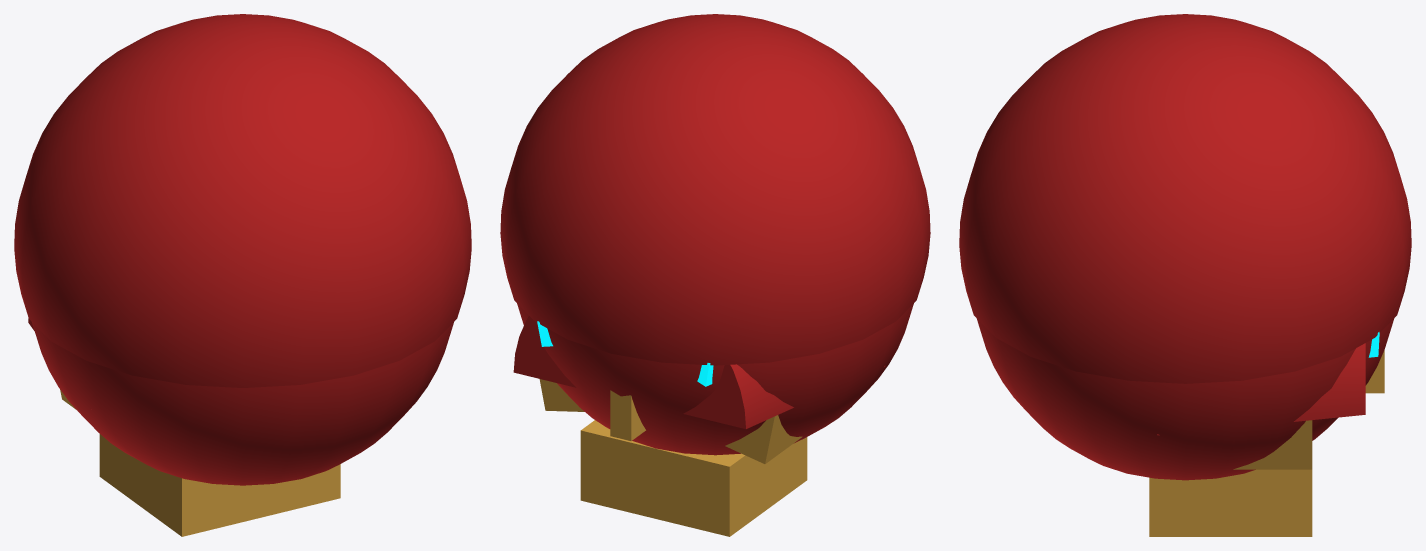
The model's file is helmet.glb.
The picture shows the model from 3 angles, left to right: view 1: azimuth 30°, elevation 25°; view 2: azimuth 150°, elevation 25°; view 3: azimuth 270°, elevation 25°; orthographic projection. The views are drawn at different scales.
Parts seen in each view (by area): view 1: Crown, Skull, Jaw; view 2: Crown, Skull, Jaw, Faceplate, CheekR, Ridge, CheekL; view 3: Crown, Skull, Jaw, Faceplate, CheekL.
Boxes of the visible parts, left/top/right/bottom form: Crown: left=14, top=14, right=471, bottom=387; Skull: left=32, top=322, right=453, bottom=485; Jaw: left=99, top=434, right=340, bottom=536; Crown: left=500, top=14, right=930, bottom=365; Skull: left=517, top=303, right=913, bottom=455; Jaw: left=580, top=420, right=807, bottom=536; Faceplate: left=513, top=316, right=885, bottom=428; CheekR: left=725, top=415, right=802, bottom=463; Ridge: left=610, top=390, right=645, bottom=440; CheekL: left=539, top=379, right=584, bottom=411; Crown: left=959, top=14, right=1411, bottom=383; Skull: left=976, top=318, right=1394, bottom=480; Jaw: left=1149, top=469, right=1312, bottom=536; Faceplate: left=1157, top=343, right=1365, bottom=435; CheekL: left=1233, top=420, right=1312, bottom=469.
Size of the model in its own units: 2.83 by 3.2 by 2.83.
